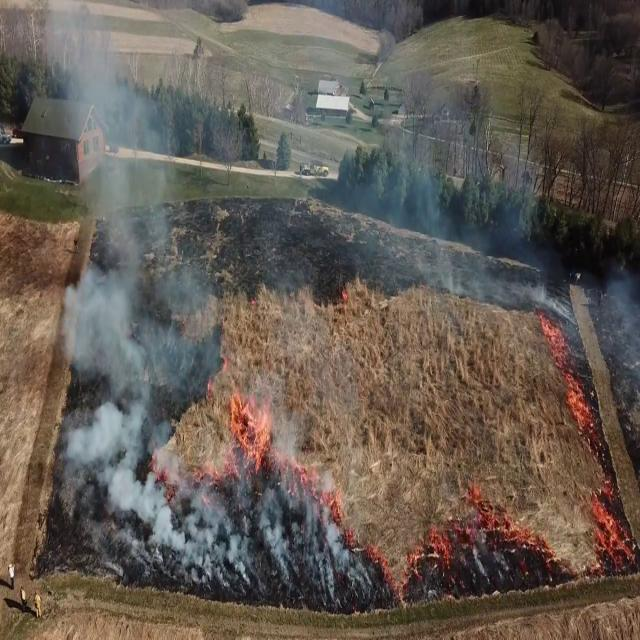Fire: (221, 376, 277, 474)
Smoke: (49, 9, 212, 538)
